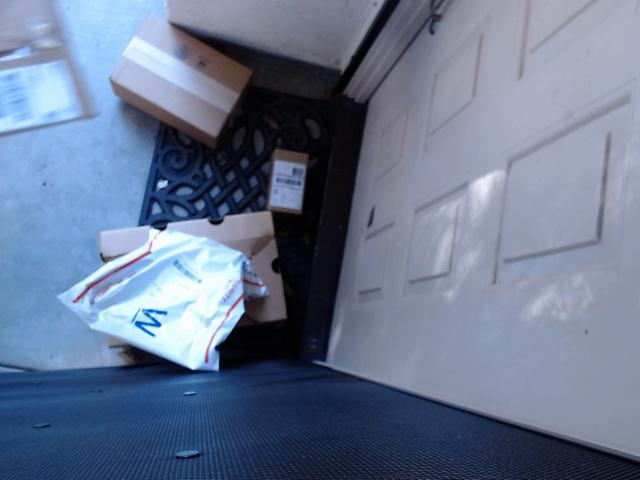box: (99, 211, 286, 367), (110, 12, 251, 149), (0, 0, 101, 136), (266, 149, 308, 213)
plastic_bag: (56, 227, 268, 372)
